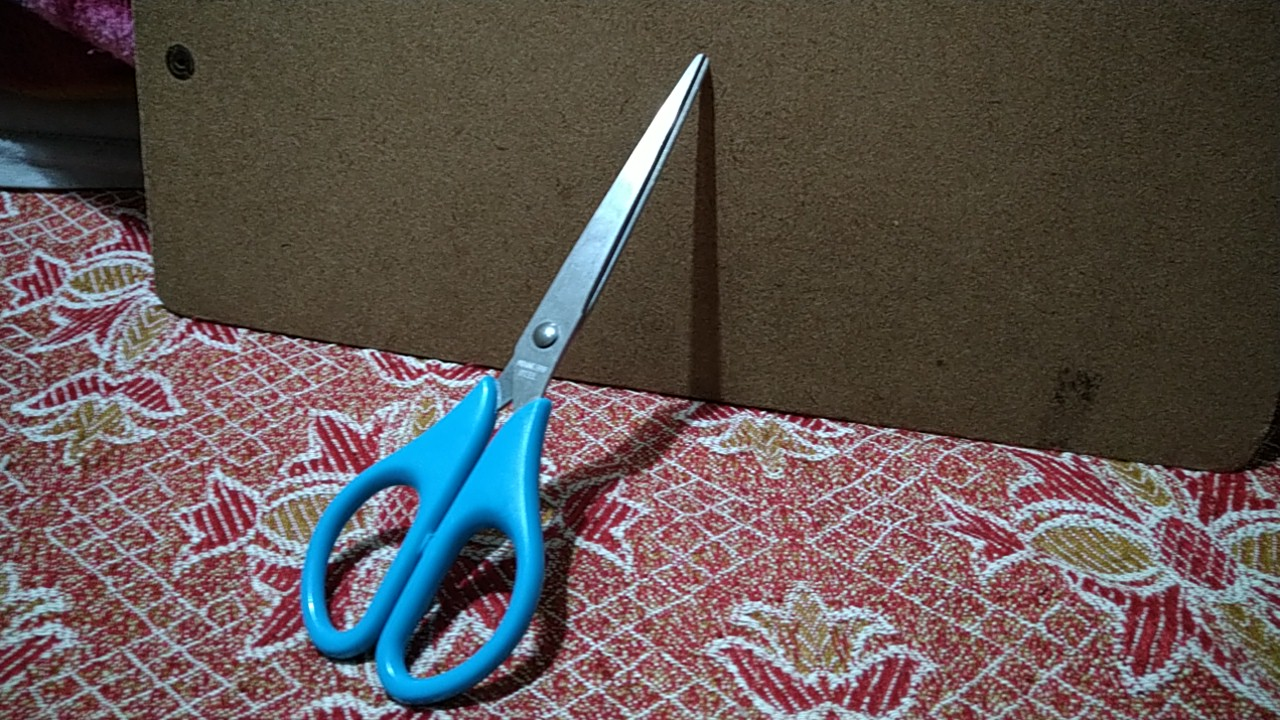scissor: (279, 29, 798, 720)
